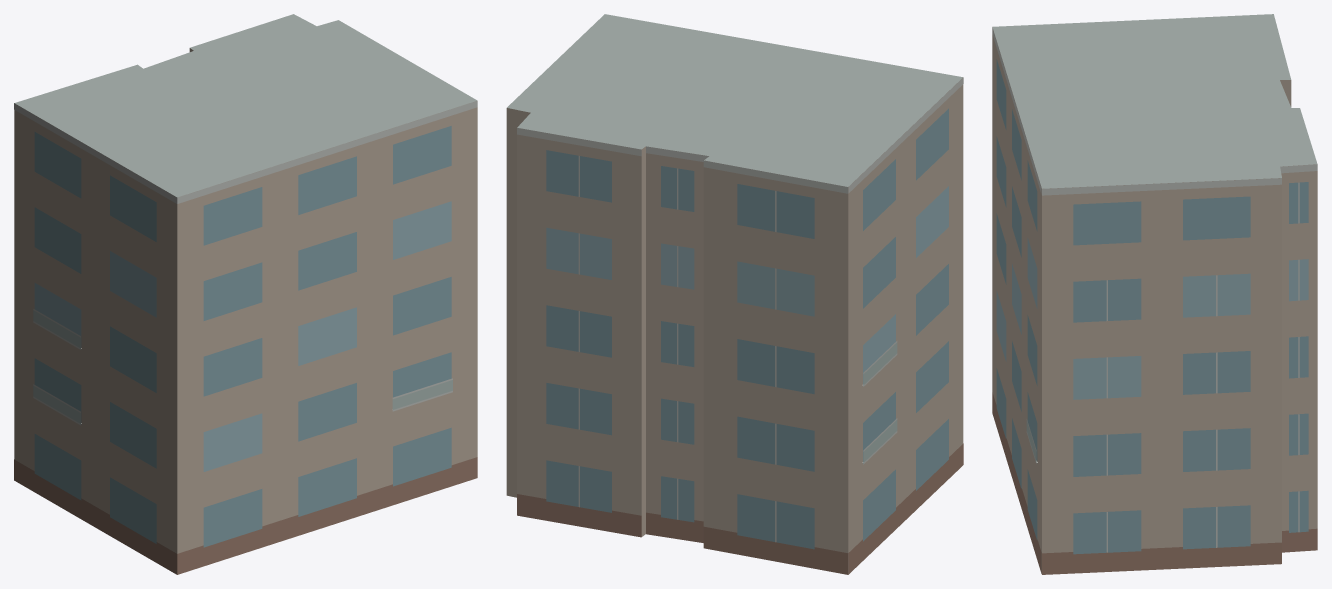
The model's file is survey-upis-32939969.glb.
The picture shows the model from 3 angles, left to right: view 1: azimuth 30°, elevation 25°; view 2: azimuth 150°, elevation 25°; view 3: azimuth 270°, elevation 25°; orthographic projection. The views are drawn at different scales.
Visible parts, largest first — view 1: survey-upis-32939969.tmp; view 2: survey-upis-32939969.tmp; view 3: survey-upis-32939969.tmp.
Boxes of the visible parts, x1,y1,x2,y2 form: survey-upis-32939969.tmp: (14, 14, 477, 574); survey-upis-32939969.tmp: (506, 14, 963, 574); survey-upis-32939969.tmp: (992, 14, 1317, 574).
Size of the model in its own units: 13.51 by 13.9 by 10.62.
